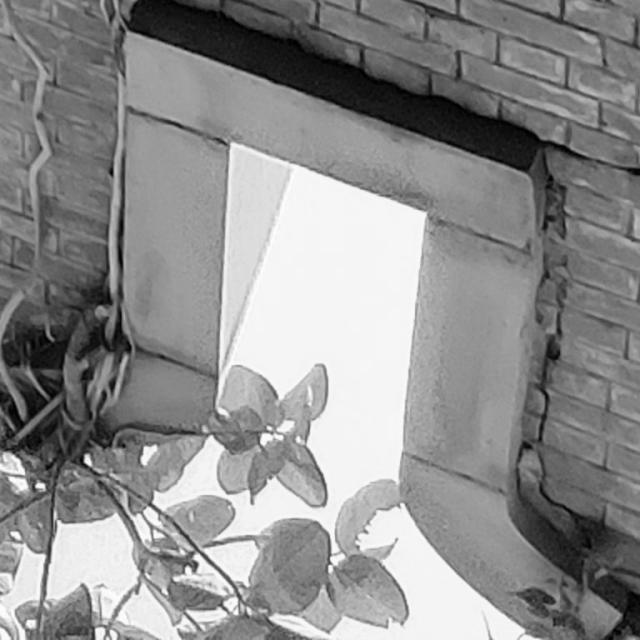crack: (515, 141, 638, 550)
